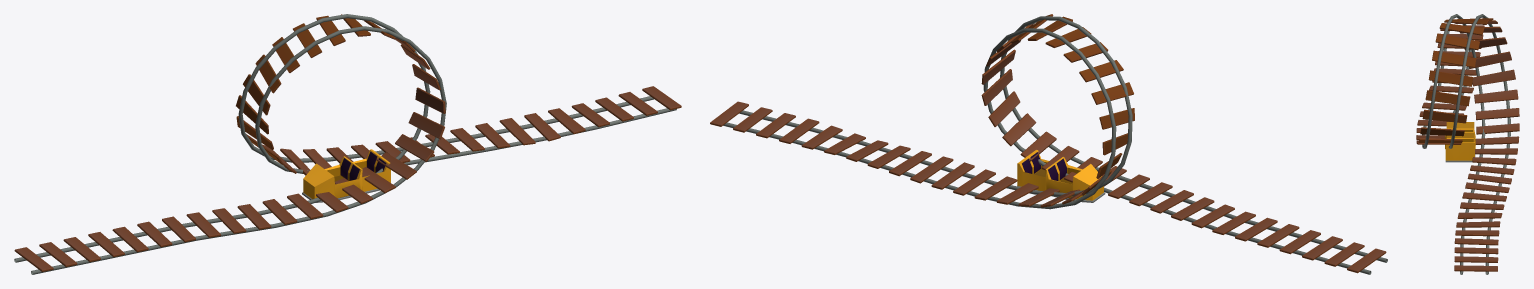
Rendered from RollerCoaster.fbx.
3 views of the same model, side by side, from view 1: azimuth 30°, elevation 25°; view 2: azimuth 150°, elevation 25°; view 3: azimuth 270°, elevation 25° (orthographic). The views are drawn at different scales.
Visible parts, largest first — view 1: RailPlanks, Rail1, Rail2, Cart; view 2: RailPlanks, Rail2, Rail1, Cart; view 3: RailPlanks, Rail1, Rail2, Cart.
Boxes of the visible parts, box(x1,y1,x2,y2) form: RailPlanks: box(14, 14, 681, 271); Rail1: box(31, 26, 676, 274); Rail2: box(14, 14, 653, 262); Cart: box(302, 149, 390, 202); RailPlanks: box(710, 14, 1386, 273); Rail2: box(723, 28, 1371, 274); Rail1: box(739, 16, 1387, 262); Cart: box(1017, 150, 1105, 202); RailPlanks: box(1416, 18, 1519, 271); Rail1: box(1422, 14, 1485, 274); Rail2: box(1448, 14, 1510, 274); Cart: box(1445, 122, 1475, 162).
Bounding box in the file's own units: 1423 × 350 × 252.
